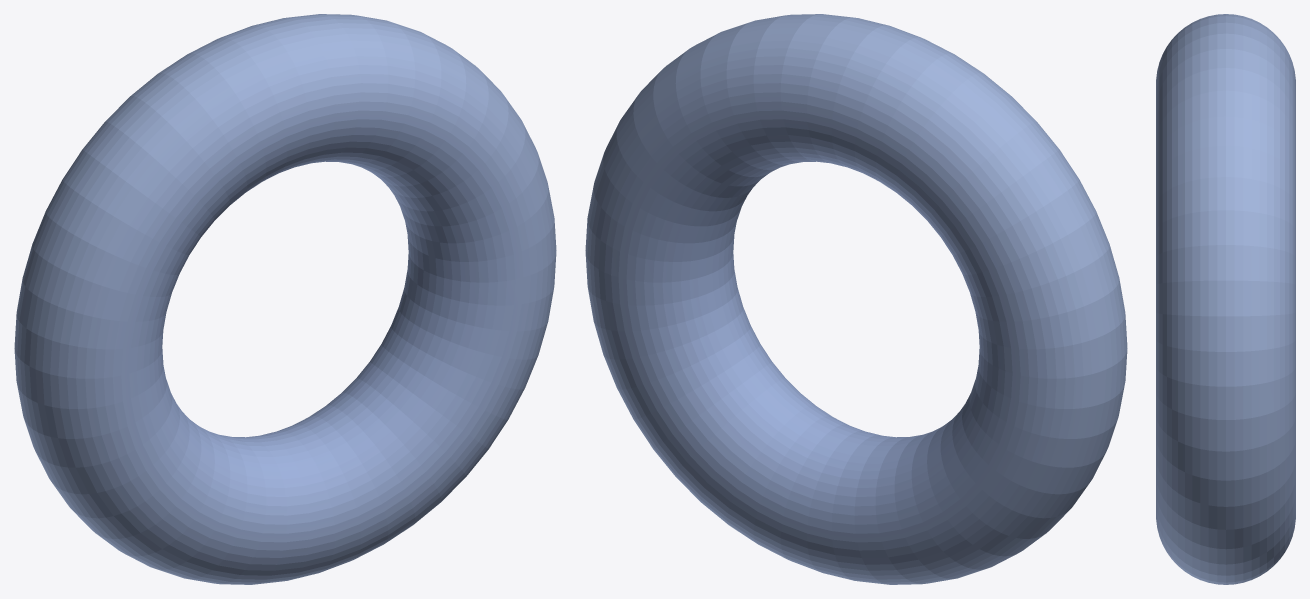
3 renders of one model, left to right at view 1: azimuth 30°, elevation 25°; view 2: azimuth 150°, elevation 25°; view 3: azimuth 270°, elevation 25°, orthographic. The views are drawn at different scales.
Visible parts, largest first — view 1: world; view 2: world; view 3: world.
Boxes of the visible parts, x1,y1,x2,y2 form: world: (14, 14, 556, 584); world: (585, 14, 1127, 584); world: (1156, 14, 1295, 584).
Size of the model in its own units: 21.2 by 21.16 by 5.19.
